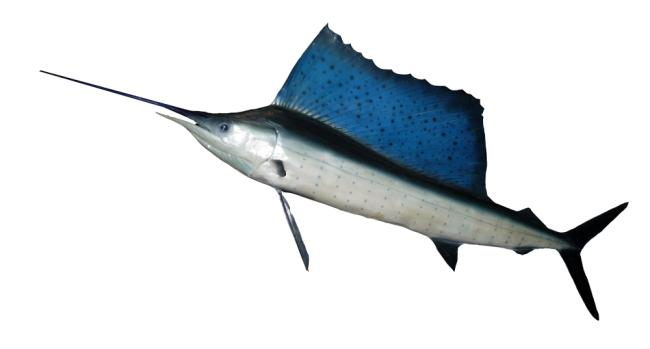fish: (38, 23, 630, 322)
